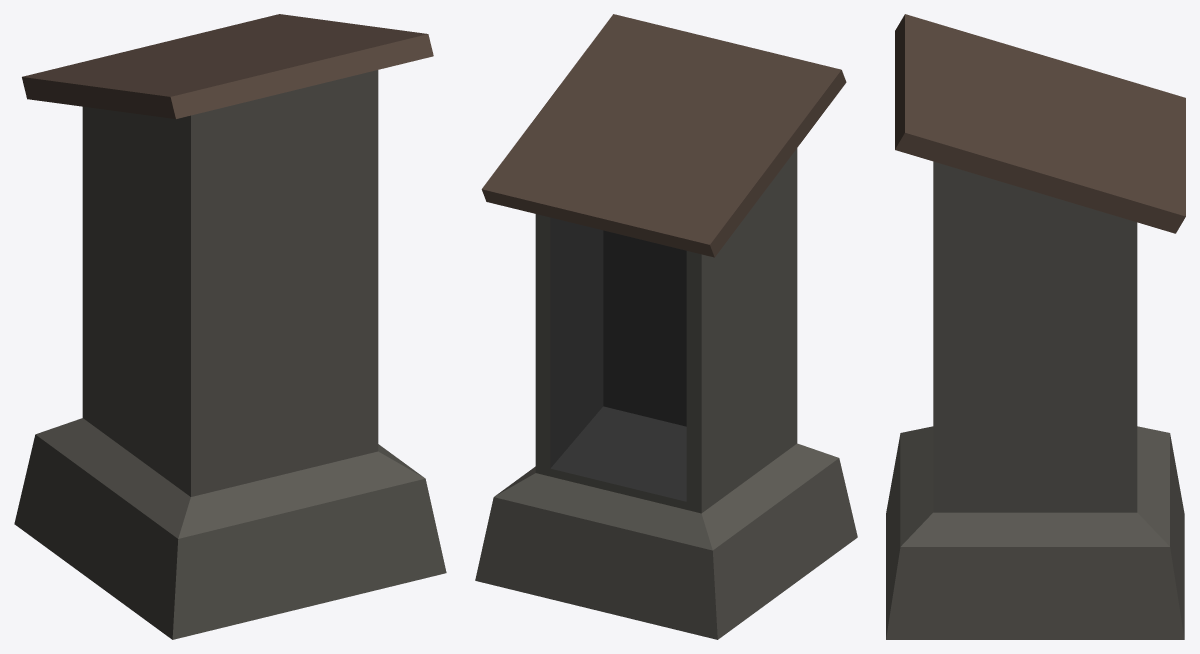
File: Reception_desk.fbx
The picture shows the model from 3 angles, left to right: view 1: azimuth 30°, elevation 25°; view 2: azimuth 150°, elevation 25°; view 3: azimuth 270°, elevation 25°; orthographic projection. The views are drawn at different scales.
Parts seen in each view (by area): view 1: pCube1; view 2: pCube1; view 3: pCube1.
Boxes of the visible parts, x1,y1,x2,y2 form: pCube1: (14, 14, 446, 639); pCube1: (475, 14, 857, 639); pCube1: (886, 14, 1185, 639).
Bounding box in the file's own units: 25.05 × 46.62 × 25.17.
